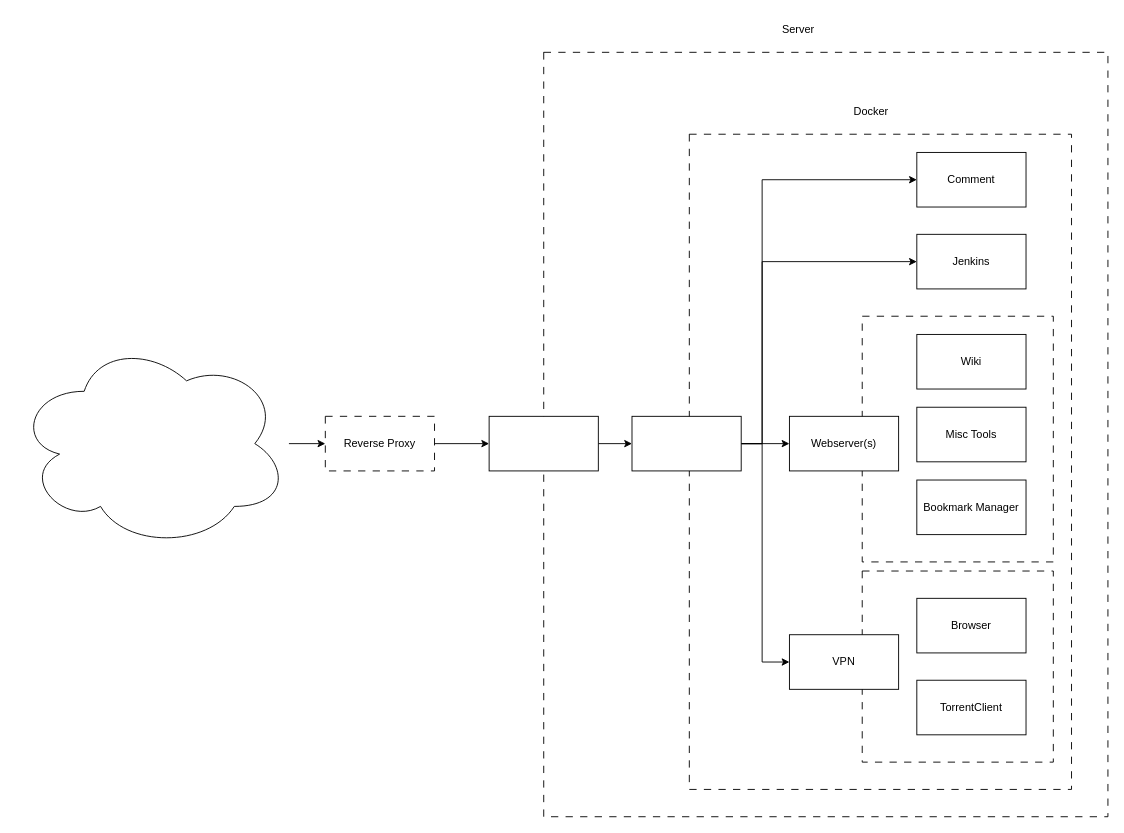
Some shapes in this 1124 by 833 pixel diagram are drawn without their labels. The shapes that lost their labels are listed below. From the top down, each one's centre as x and y in pixels, then its label:
[152,443]: Internet
[543,443]: Gateway
[686,443]: Auth
